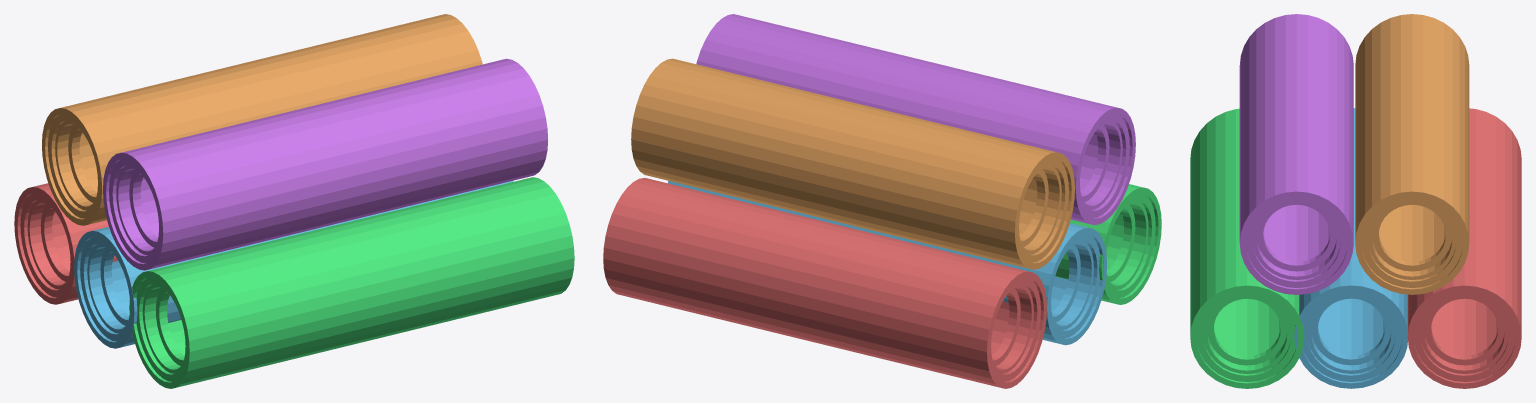
The model's file is Carton.fbx.
3 renders of one model, left to right at view 1: azimuth 30°, elevation 25°; view 2: azimuth 150°, elevation 25°; view 3: azimuth 270°, elevation 25°, orthographic. The views are drawn at different scales.
Parts seen in each view (by area): view 1: Cylinder.004, Cylinder.001, Cylinder.003, Carton, Cylinder.002; view 2: Cylinder.003, Cylinder.002, Cylinder.004, Carton, Cylinder.001; view 3: Cylinder.003, Cylinder.004, Cylinder.002, Cylinder.001, Carton.
Part boxes in pixels (box(x1,y1,x2,y2)): Cylinder.004: box(103, 58, 548, 270); Cylinder.001: box(129, 177, 574, 388); Cylinder.003: box(42, 14, 482, 225); Carton: box(74, 181, 513, 348); Cylinder.002: box(14, 183, 117, 304); Cylinder.003: box(631, 58, 1074, 269); Cylinder.002: box(603, 177, 1046, 388); Cylinder.004: box(696, 14, 1135, 225); Carton: box(668, 181, 1106, 345); Cylinder.001: box(1055, 184, 1161, 304); Cylinder.003: box(1355, 14, 1469, 294); Cylinder.004: box(1239, 14, 1353, 294); Cylinder.002: box(1407, 108, 1521, 388); Cylinder.001: box(1190, 108, 1304, 388); Carton: box(1294, 108, 1407, 388).
Size of the model in its own units: 220 by 114 by 173.
